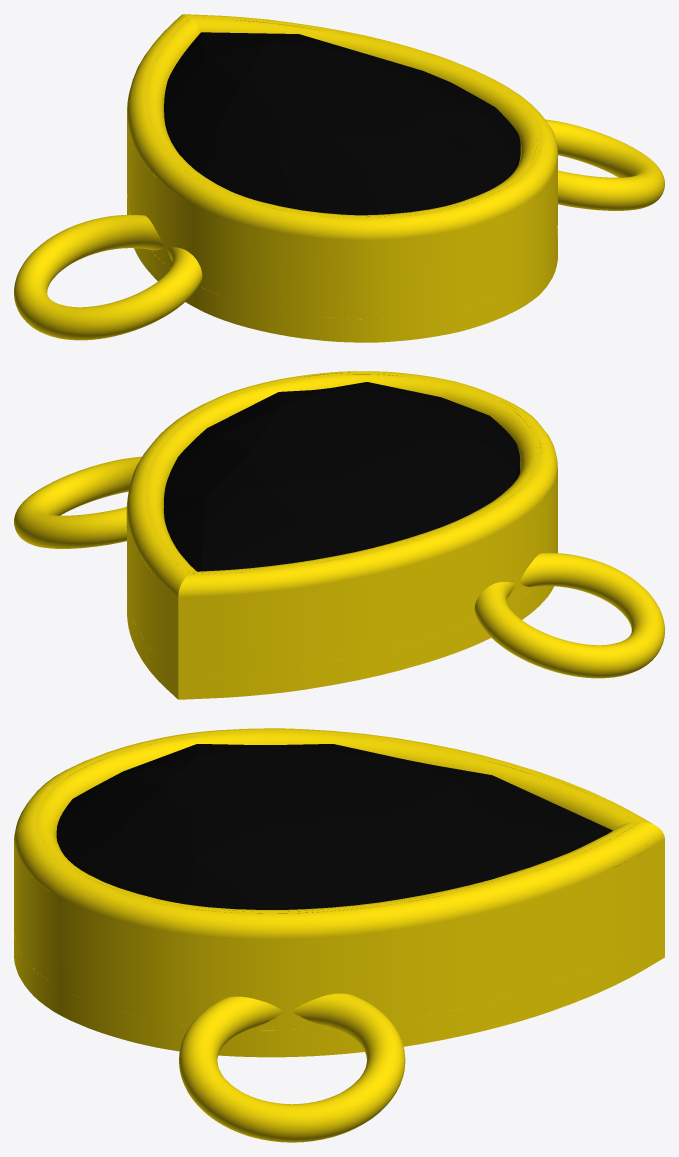
Rendered from bracelet-pear.glb.
3 renders of one model, top to bottom at view 1: azimuth 30°, elevation 25°; view 2: azimuth 150°, elevation 25°; view 3: azimuth 270°, elevation 25°, orthographic. The views are drawn at different scales.
Bounding box in the file's own units: 0.0195 × 0.00485 × 0.0152.
